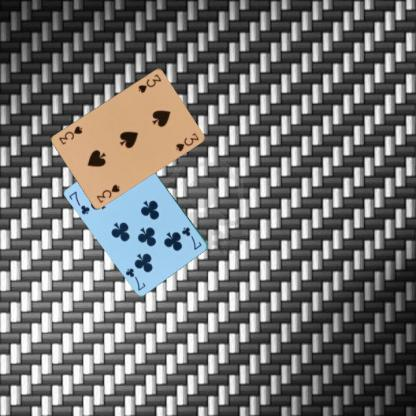3s: (94, 181, 121, 204), (136, 71, 162, 94)
7c: (66, 189, 92, 215), (179, 224, 203, 252)
